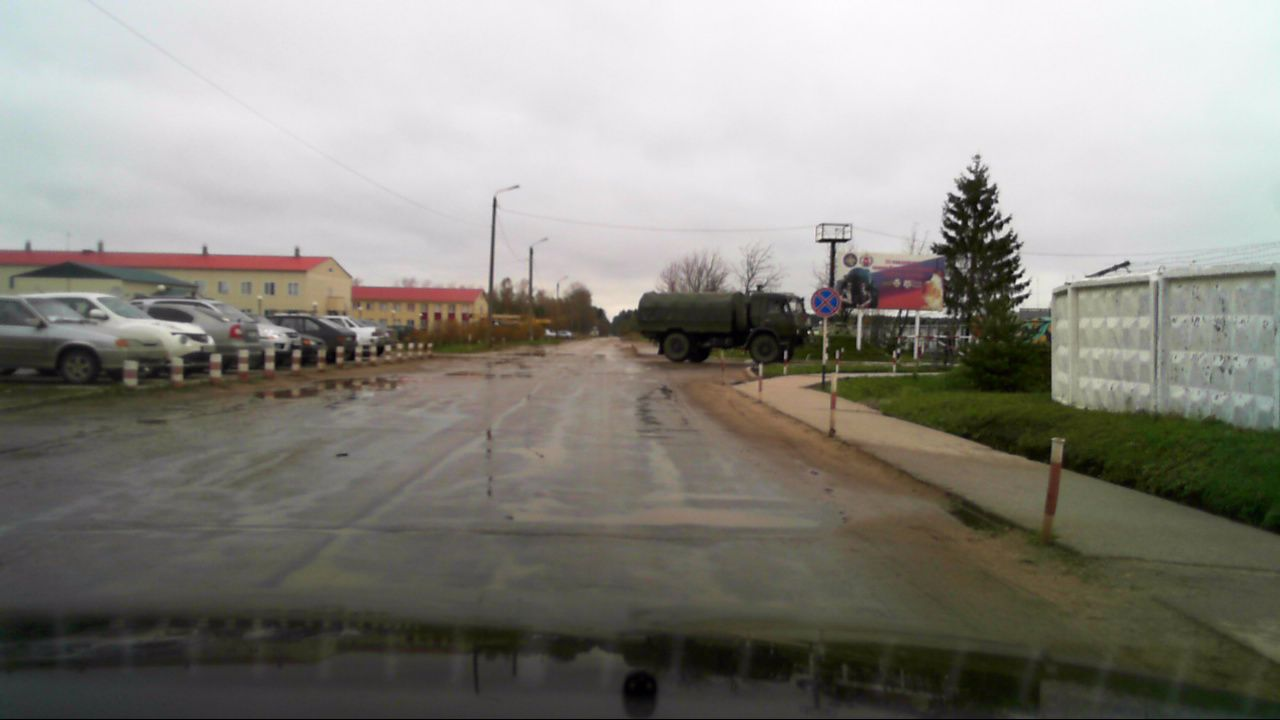No Parking: (809, 287, 841, 318)
